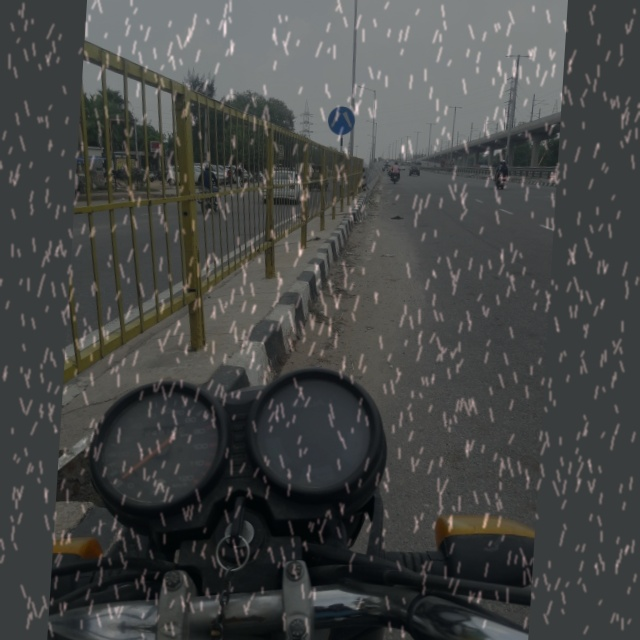Pass_Either_Side: (326, 101, 359, 141)
